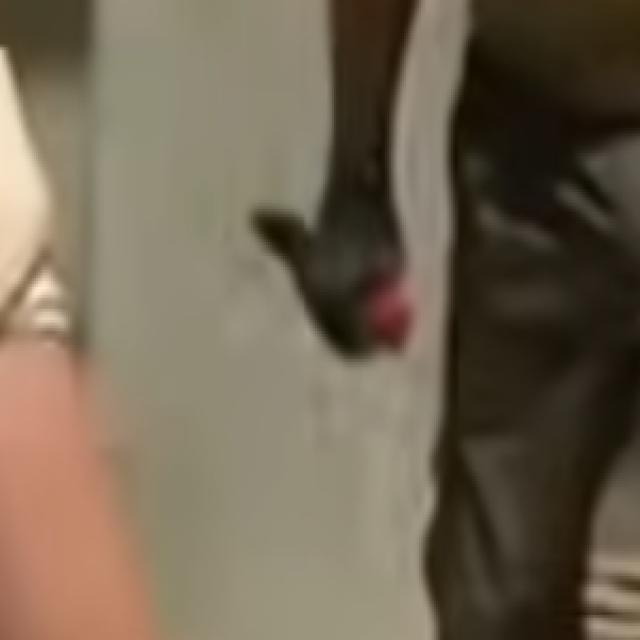Fknife: (237, 200, 346, 384)
